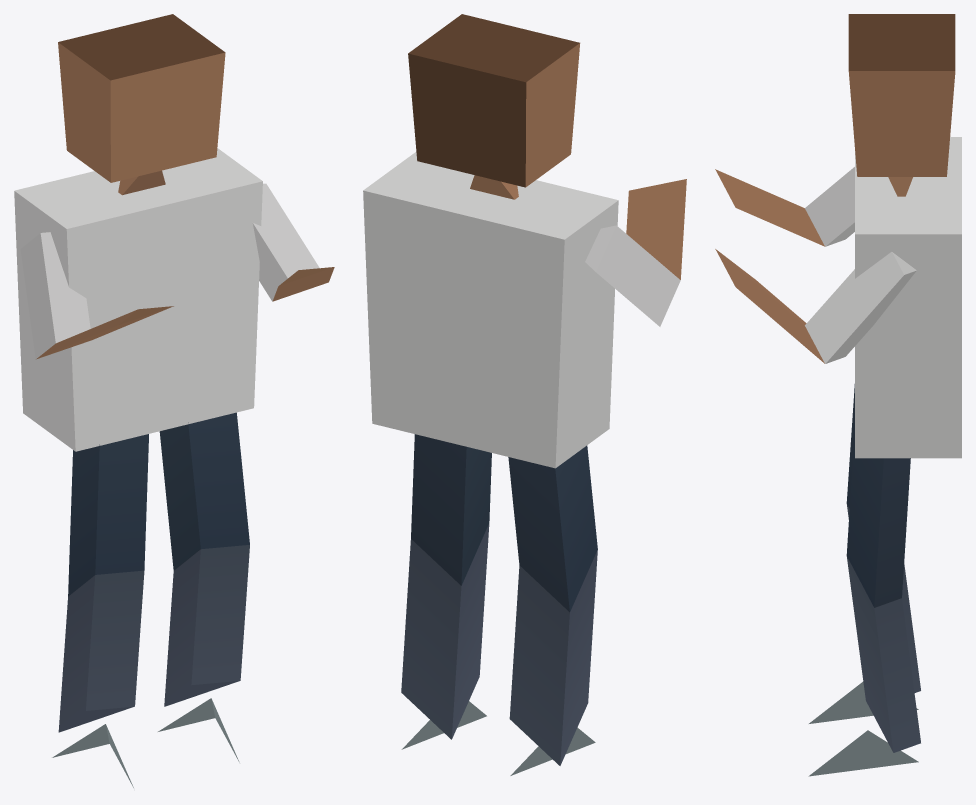
The model's file is fan-09.glb.
3 views of the same model, side by side, from view 1: azimuth 30°, elevation 25°; view 2: azimuth 150°, elevation 25°; view 3: azimuth 270°, elevation 25° (orthographic). The views are drawn at different scales.
Parts seen in each view (by area): view 1: fan-09; view 2: fan-09; view 3: fan-09.
Part boxes in pixels (left/top/right/bottom): fan-09: left=14, top=14, right=334, bottom=787; fan-09: left=363, top=14, right=686, bottom=775; fan-09: left=715, top=14, right=961, bottom=776.
Bounding box in the file's own units: 0.7775 × 1.83 × 0.5778.
